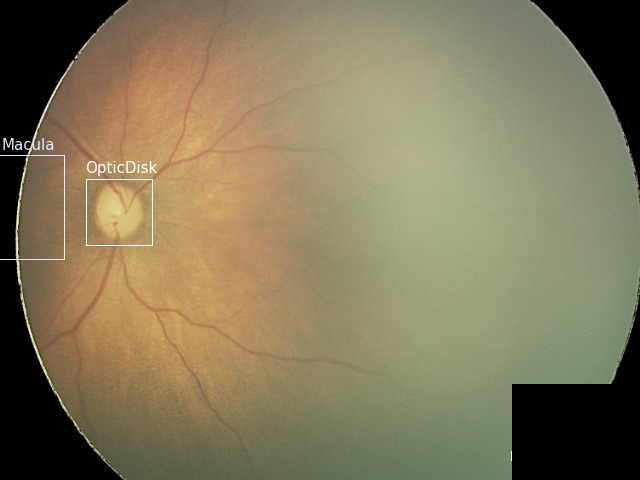OpticDisk: (85, 178, 151, 244)
